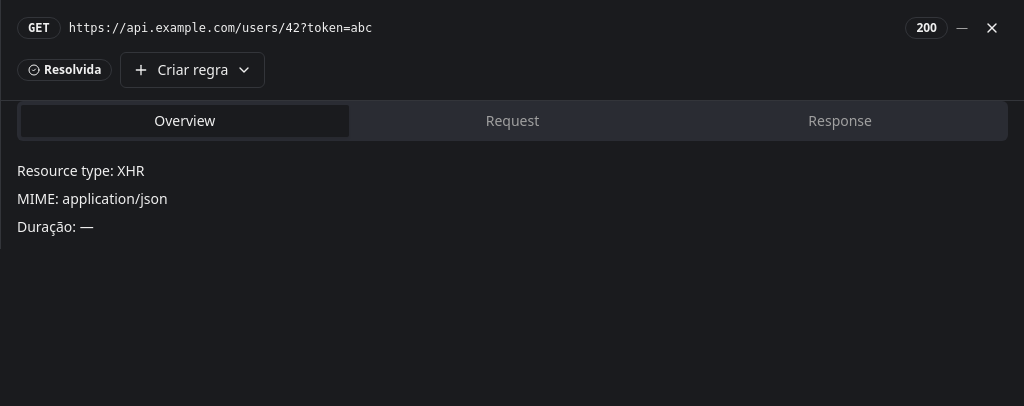
Test case: RequestInspector › aba Response mostra headers e body unidos
The width and height of the screenshot is (1024, 406).
Press the mouse on the tab "Response" at (840, 121), box [676,105,1004,137]
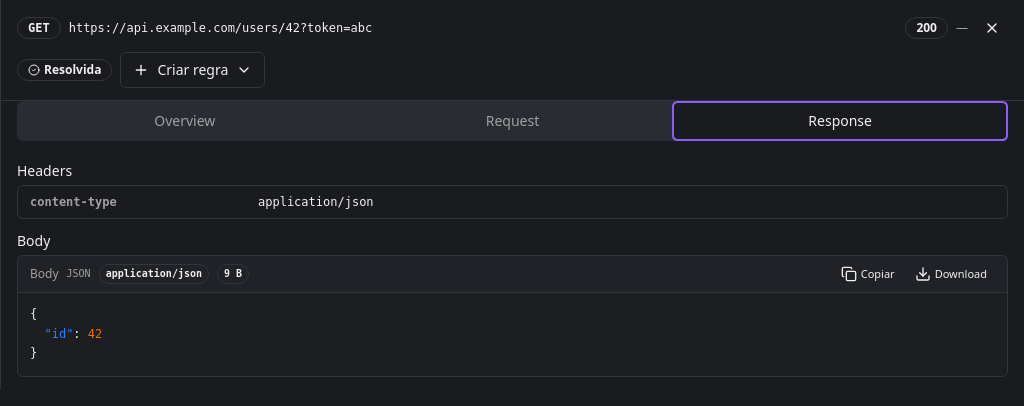
Expected: the text "content-type" is shown, [30,195,117,209]
Expected: the element showing "{ \"id\": 42 }" shows "\"id\"", [44,326,73,340]
Expected: the element showing "{ \"id\": 42 }" is shown, [30,307,102,360]
